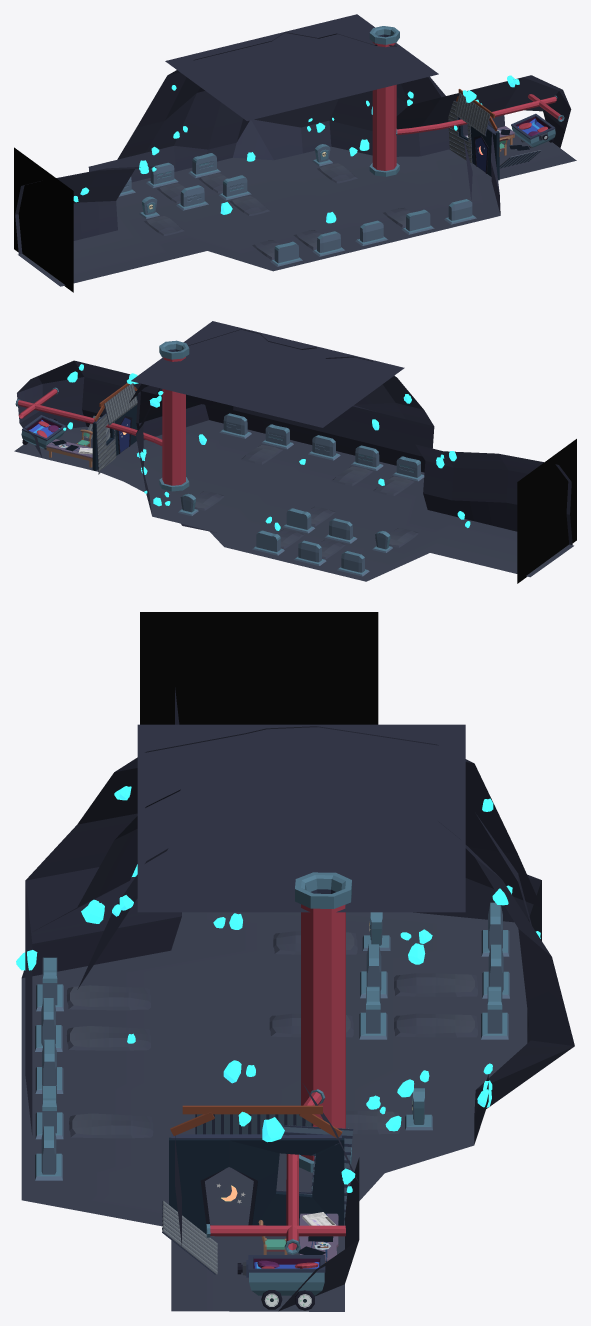
File: INT_RockGraveyard.fbx
The picture shows the model from 3 angles, top to bottom: view 1: azimuth 30°, elevation 25°; view 2: azimuth 150°, elevation 25°; view 3: azimuth 270°, elevation 25°; orthographic projection. The views are drawn at different scales.
Parts seen in each view (by area): view 1: CaveFloor, cavewall.001, Roof, Roof.001, Pipes.003, GravekeeperWall, GravekeeperBed, Graves.004, Graves.010, Graves.009, Graves, Graves.003 (+8 smaller); view 2: CaveFloor, cavewall.001, Roof, Roof.001, Pipes.003, GravekeeperWall, GravekeeperBed, GravekeeperDesk, Graves.003, Graves.008, Graves.010, Graves (+11 smaller); view 3: CaveFloor, Roof, cavewall.001, Roof.001, GravekeeperWall, Pipes.003, GravekeeperBed, GraveDirts.005, GraveDirts.006, GraveDirts.002, GraveDirts.004, GraveDirts (+15 smaller).
Boxes of the visible parts, x1=… form: CaveFloor: x1=18, y1=134, x2=576, y2=286; cavewall.001: x1=15, y1=32, x2=571, y2=254; Roof: x1=165, y1=14, x2=438, y2=120; Roof.001: x1=14, y1=147, x2=73, y2=292; Pipes.003: x1=369, y1=26, x2=564, y2=176; GravekeeperWall: x1=448, y1=89, x2=499, y2=180; GravekeeperBed: x1=511, y1=113, x2=555, y2=148; Graves.004: x1=176, y1=185, x2=208, y2=210; Graves.010: x1=444, y1=199, x2=476, y2=224; Graves.009: x1=402, y1=209, x2=434, y2=234; Graves: x1=188, y1=153, x2=220, y2=178; Graves.003: x1=219, y1=175, x2=251, y2=200; CaveFloor: x1=14, y1=420, x2=573, y2=581; cavewall.001: x1=17, y1=329, x2=572, y2=544; Roof: x1=131, y1=321, x2=404, y2=427; Roof.001: x1=517, y1=439, x2=576, y2=583; Pipes.003: x1=15, y1=340, x2=189, y2=491; GravekeeperWall: x1=92, y1=383, x2=139, y2=474; GravekeeperBed: x1=21, y1=415, x2=66, y2=449; GravekeeperDesk: x1=46, y1=429, x2=92, y2=467; Graves.003: x1=282, y1=508, x2=314, y2=533; Graves.008: x1=351, y1=445, x2=383, y2=470; Graves.010: x1=219, y1=413, x2=251, y2=438; Graves: x1=252, y1=530, x2=284, y2=555; CaveFloor: x1=21, y1=912, x2=527, y2=1311; Roof: x1=137, y1=724, x2=465, y2=912; cavewall.001: x1=16, y1=687, x2=574, y2=1311; Roof.001: x1=140, y1=612, x2=378, y2=724; GravekeeperWall: x1=169, y1=1105, x2=353, y2=1233; Pipes.003: x1=206, y1=872, x2=351, y2=1254; GravekeeperBed: x1=237, y1=1255, x2=325, y2=1310; GraveDirts.005: x1=69, y1=1113, x2=153, y2=1138; GraveDirts.006: x1=67, y1=985, x2=150, y2=1010; GraveDirts.002: x1=394, y1=1013, x2=477, y2=1037; GraveDirts.004: x1=394, y1=973, x2=477, y2=996; GraveDirts: x1=66, y1=1026, x2=150, y2=1050.
Bounding box in the file's own units: 5088 × 1298 × 2332.
